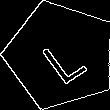L_NW: (32, 26, 89, 85)
